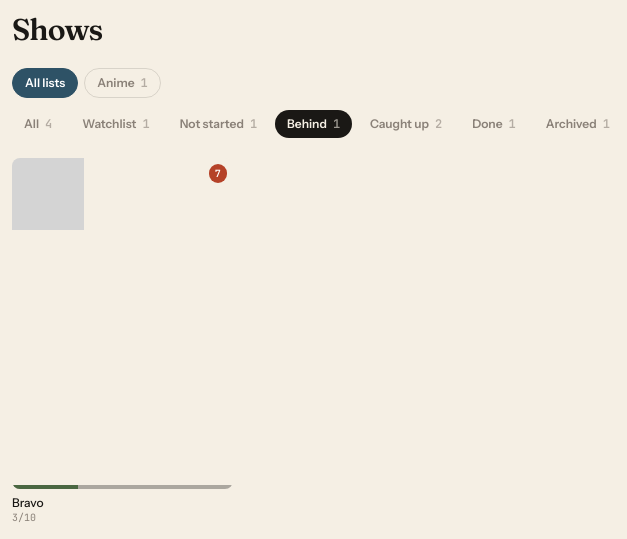
Test case: ShowsLibrary › Done shows ended/canceled series regardless of progress
Step 1. Click the button "Done1" → (494, 124), box [460,110,528,138]
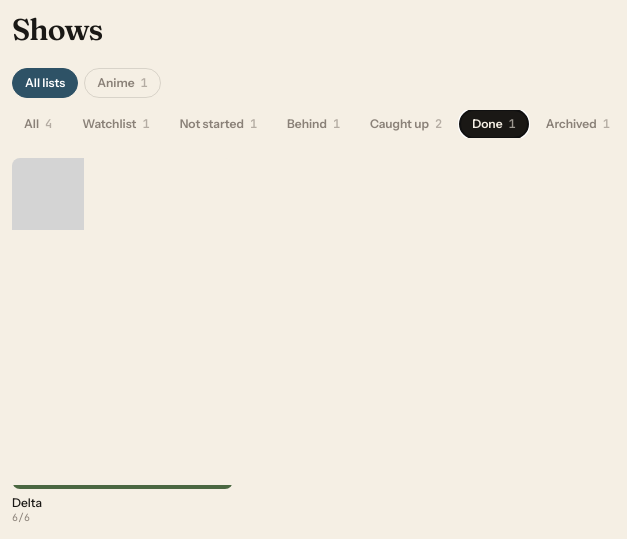
Result: the text "Delta" is shown at [12,495,42,510]
Result: the link "Bravo" is gone
